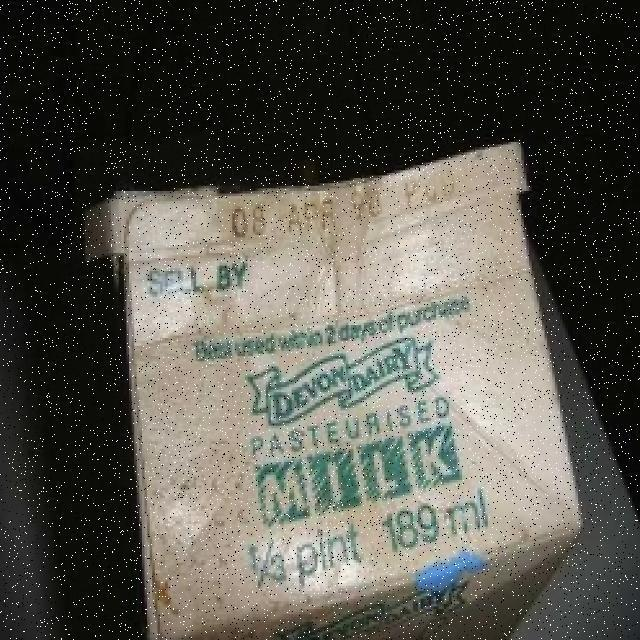box: (77, 178, 591, 640)
